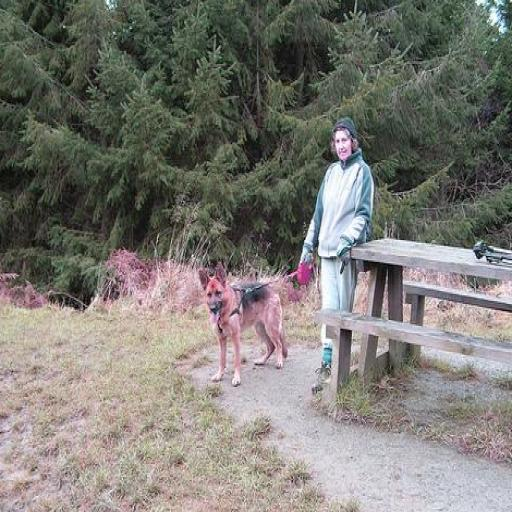dog_face: (198, 257, 227, 325)
